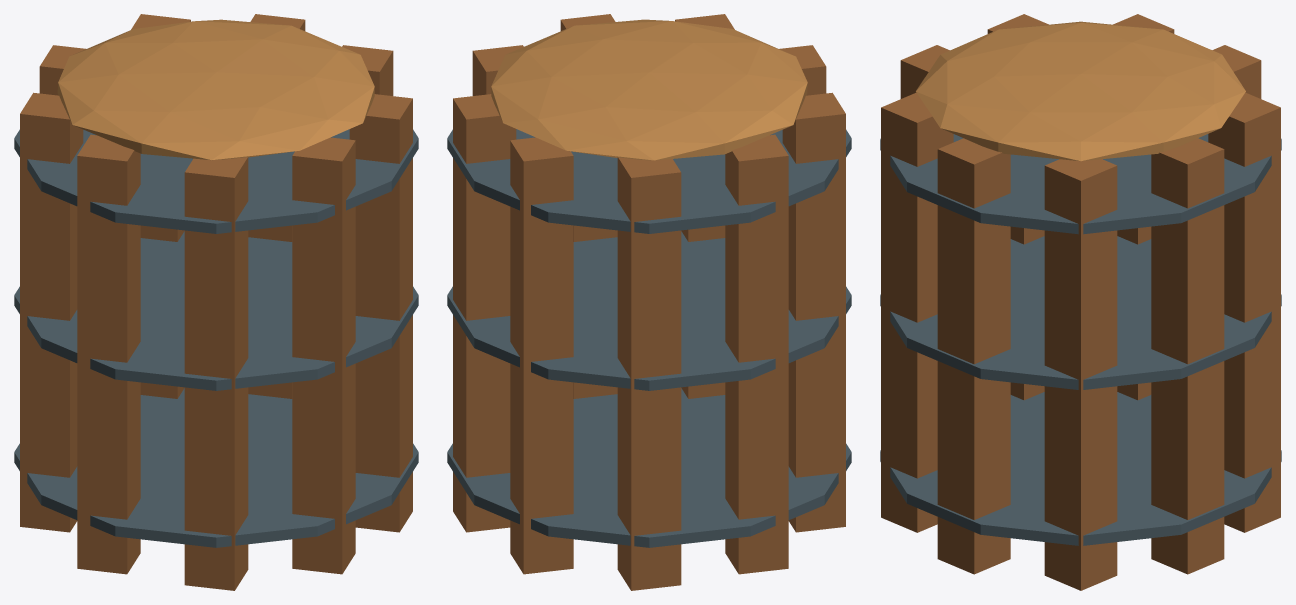
The model's file is barrel_small.glb.
The picture shows the model from 3 angles, left to right: view 1: azimuth 30°, elevation 25°; view 2: azimuth 150°, elevation 25°; view 3: azimuth 270°, elevation 25°; orthographic projection.
Visible parts, largest first — view 1: barrel_small.001; view 2: barrel_small.001; view 3: barrel_small.001.
Boxes of the visible parts, x1,y1,x2,y2 form: barrel_small.001: [14, 14, 418, 590]; barrel_small.001: [447, 14, 851, 590]; barrel_small.001: [880, 14, 1281, 590].
Size of the model in its own units: 0.4916 by 0.58 by 0.4894.
